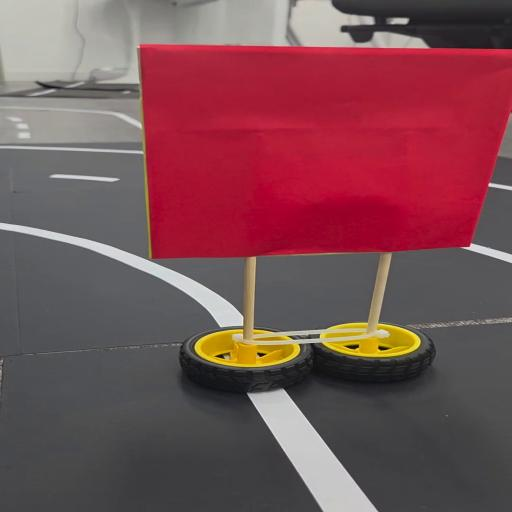Sign_A: (139, 43, 512, 412)
